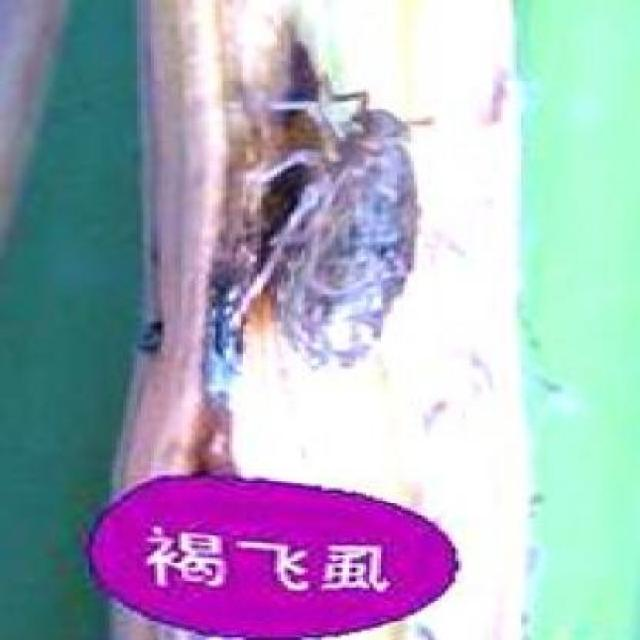brown-planthopper: (252, 80, 428, 372)
